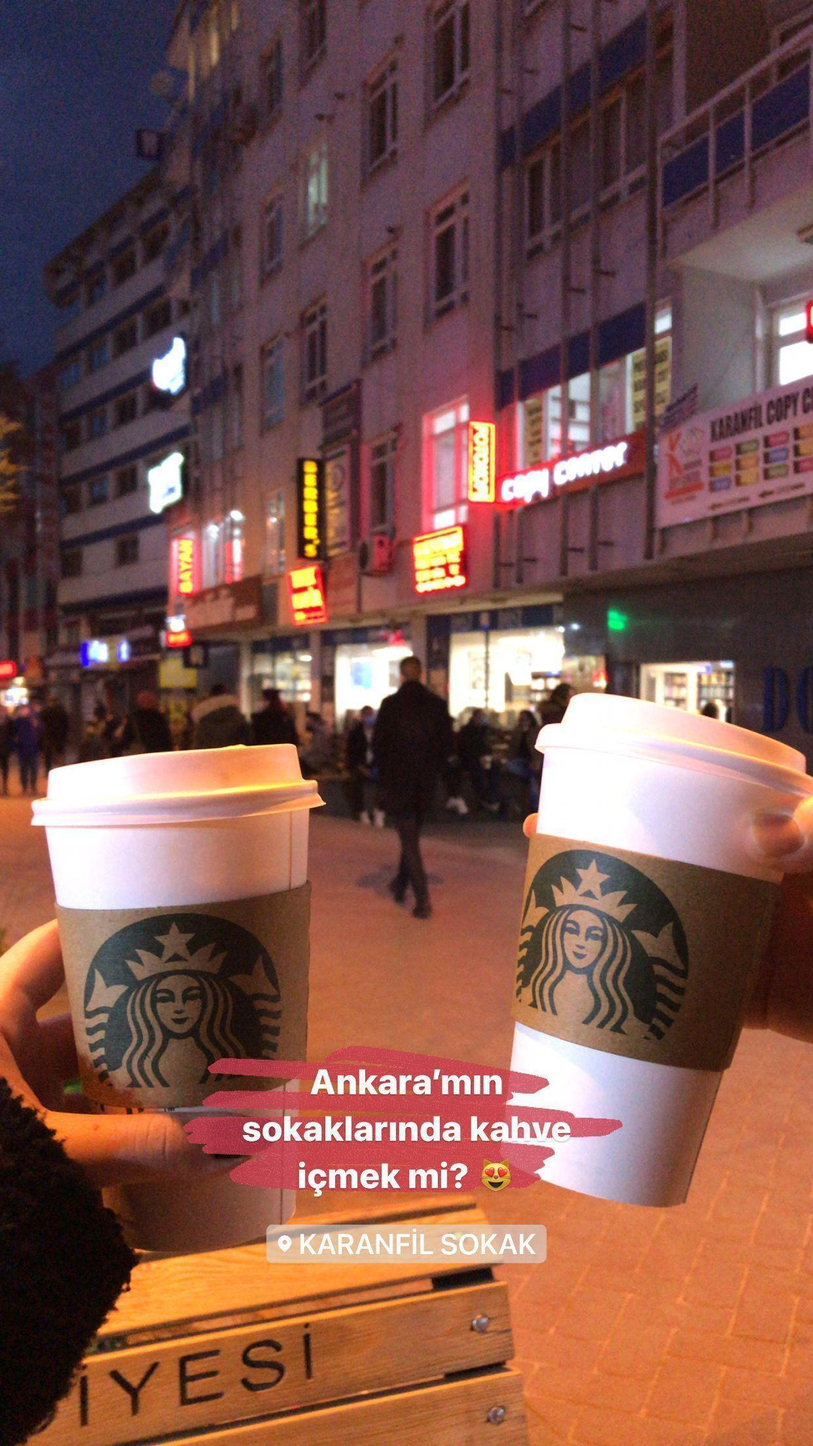cup-disposable: (500, 686, 810, 1210), (29, 739, 327, 1259)
